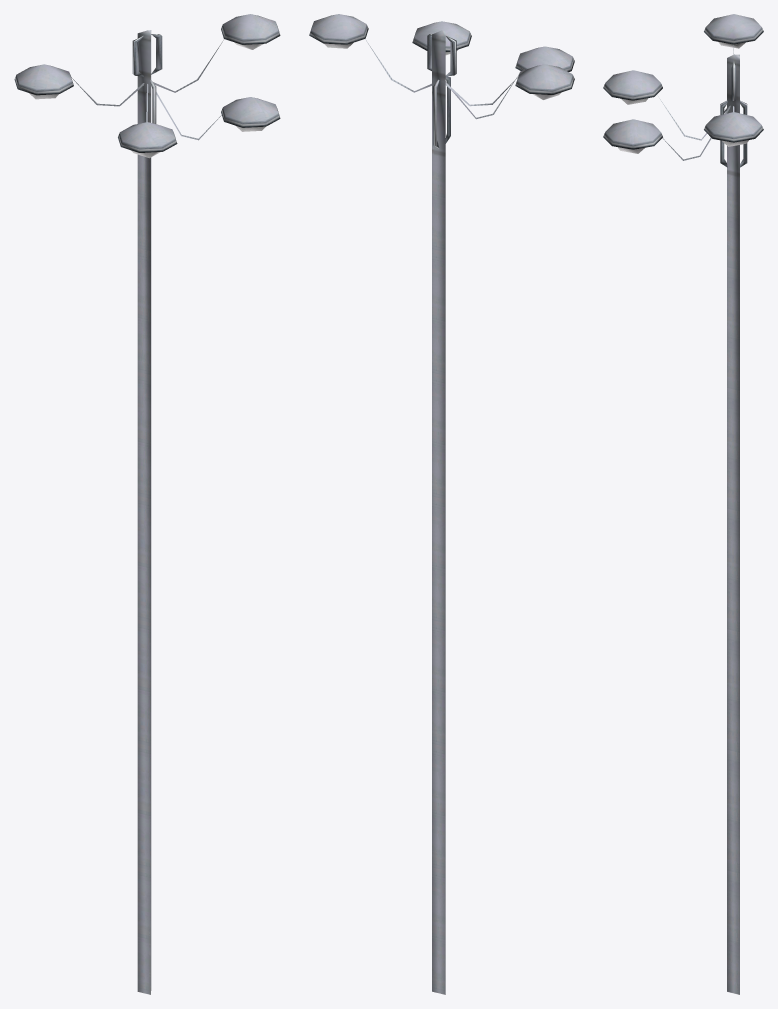
The model's file is frn_all_streetlamp_m_s2_l1.fbx.
3 renders of one model, left to right at view 1: azimuth 30°, elevation 25°; view 2: azimuth 150°, elevation 25°; view 3: azimuth 270°, elevation 25°, orthographic. The views are drawn at different scales.
Visible parts, largest first — view 1: mesh_node; view 2: mesh_node; view 3: mesh_node.
Part boxes in pixels (<box>): mesh_node: <box>14,14,280,994</box>; mesh_node: <box>309,14,574,994</box>; mesh_node: <box>603,14,763,994</box>.
Bounding box in the file's own units: 8.5 × 30.05 × 4.67.
2 materials, 2 textured.
